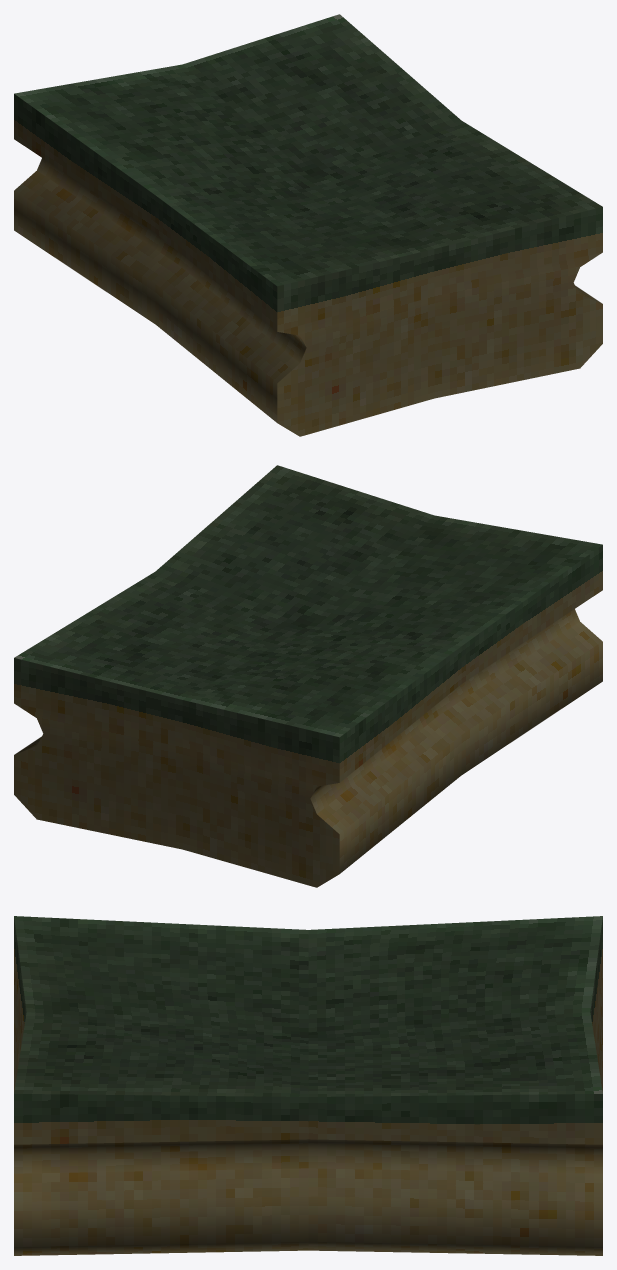
Rendered from sponge_mp_2.glb.
The picture shows the model from 3 angles, top to bottom: view 1: azimuth 30°, elevation 25°; view 2: azimuth 150°, elevation 25°; view 3: azimuth 270°, elevation 25°; orthographic projection. The views are drawn at different scales.
Visible parts, largest first — view 1: sponge_mp_2; view 2: sponge_mp_2; view 3: sponge_mp_2.
Part boxes in pixels (bbox=[...]): sponge_mp_2: bbox=[14, 14, 602, 436]; sponge_mp_2: bbox=[14, 465, 602, 887]; sponge_mp_2: bbox=[14, 916, 602, 1255].
Size of the model in its own units: 0.1 by 0.0458 by 0.14.
Materials: 1 (1 with a texture image).
